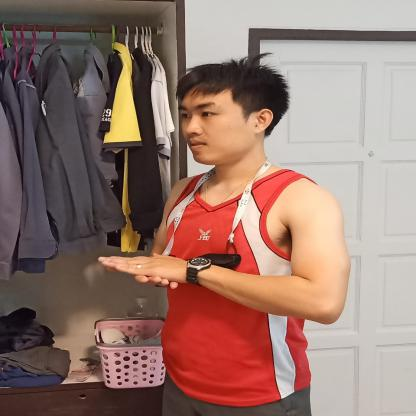Love: (87, 242, 349, 334)
